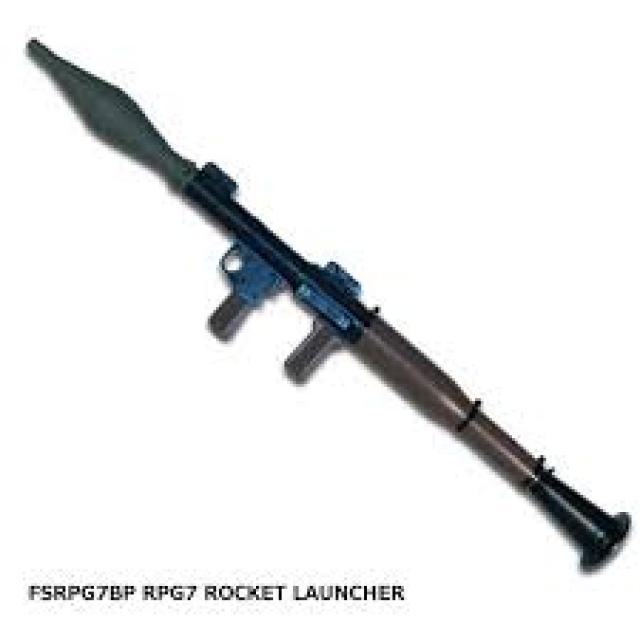bazooka: (8, 7, 639, 594)
